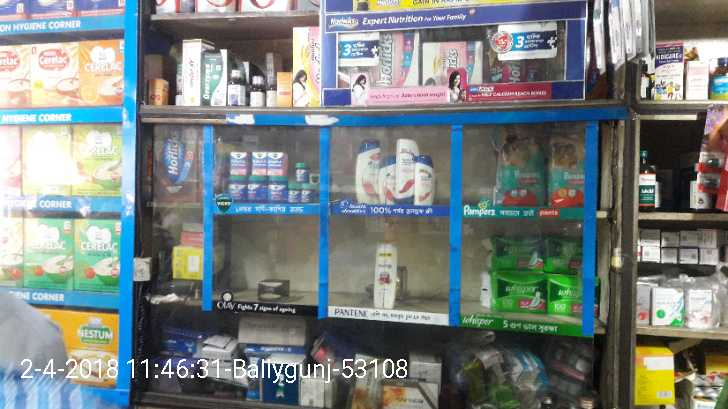vicks: (226, 146, 321, 203)
